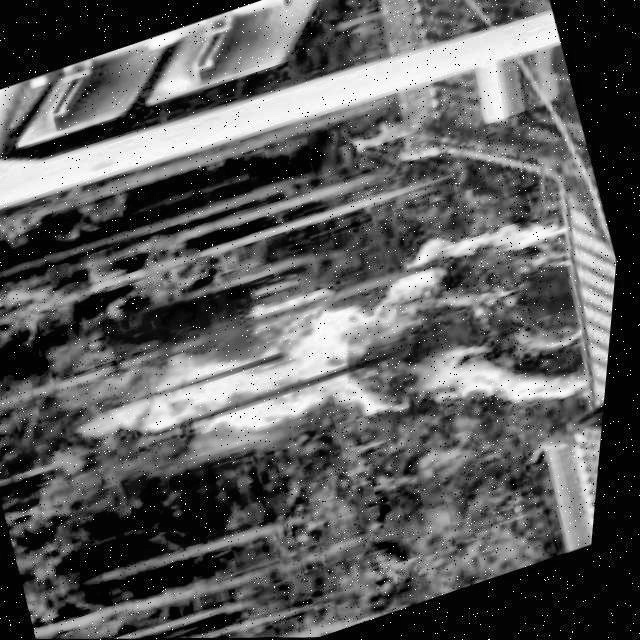Fire: (18, 192, 619, 580)
